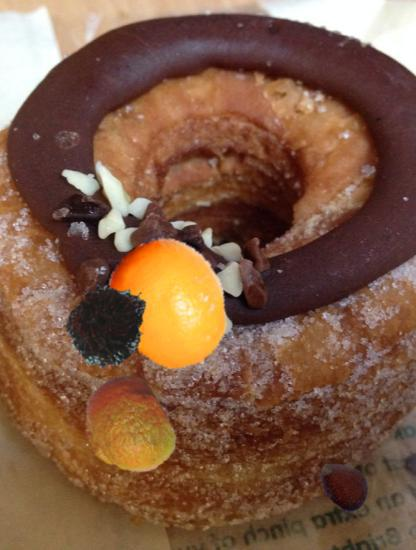Lemon: (105, 238, 238, 371)
Mandarine: (76, 375, 180, 479)
Rambutan: (66, 279, 153, 366)
Salak: (316, 456, 373, 513)
